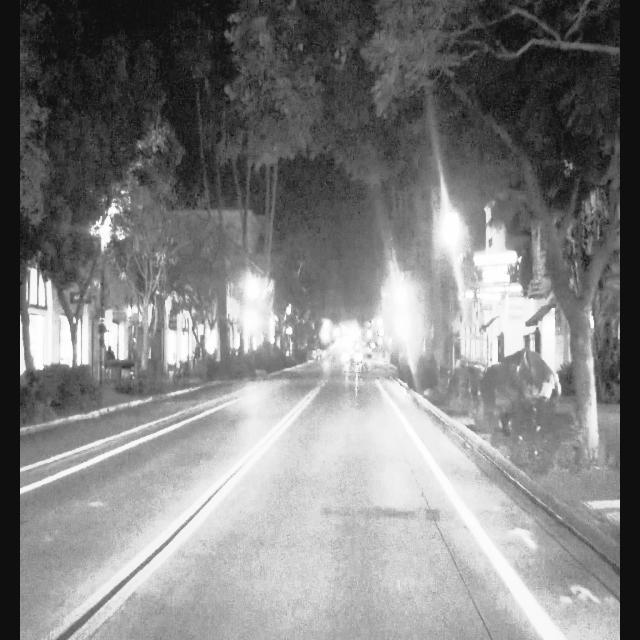Tree: (523, 0, 622, 478)
